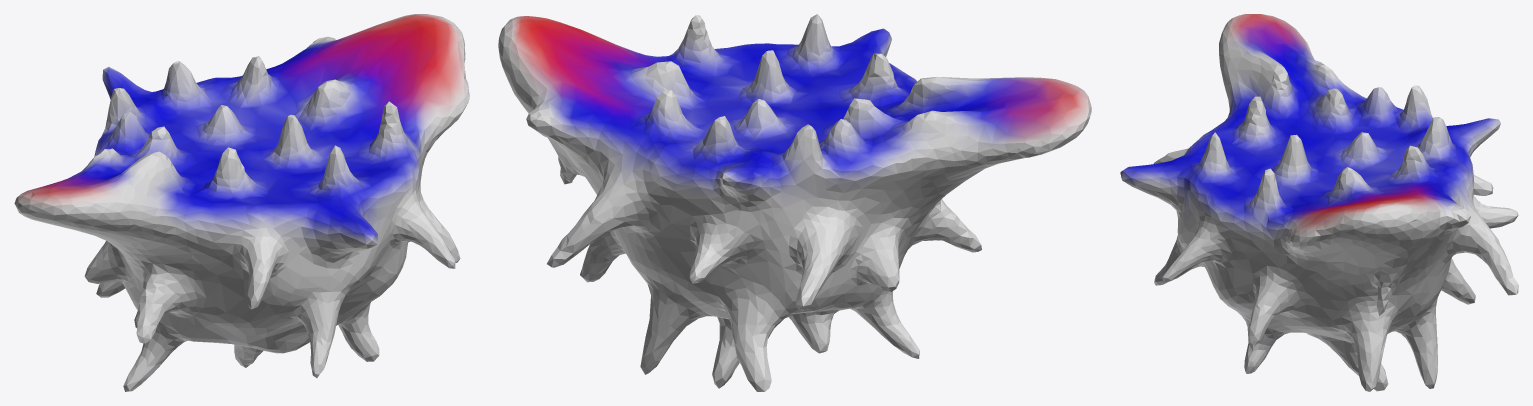
The model's file is HornyIsland.fbx.
3 renders of one model, left to right at view 1: azimuth 30°, elevation 25°; view 2: azimuth 150°, elevation 25°; view 3: azimuth 270°, elevation 25°, orthographic. The views are drawn at different scales.
Parts seen in each view (by area): view 1: Sphere; view 2: Sphere; view 3: Sphere.
Part boxes in pixels (x1,y1,x2,y2): Sphere: (14, 14, 469, 391); Sphere: (498, 14, 1091, 391); Sphere: (1120, 14, 1518, 391).
Bounding box in the file's own units: 319 × 186 × 249.
